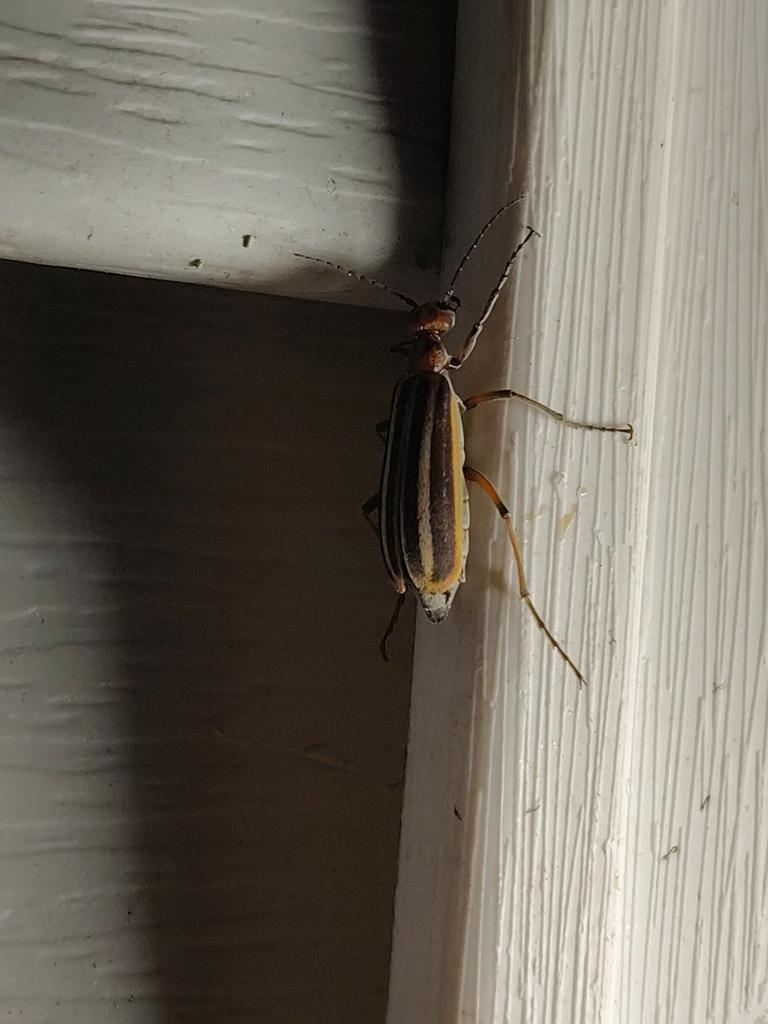blister_beetle: (239, 135, 675, 762)
